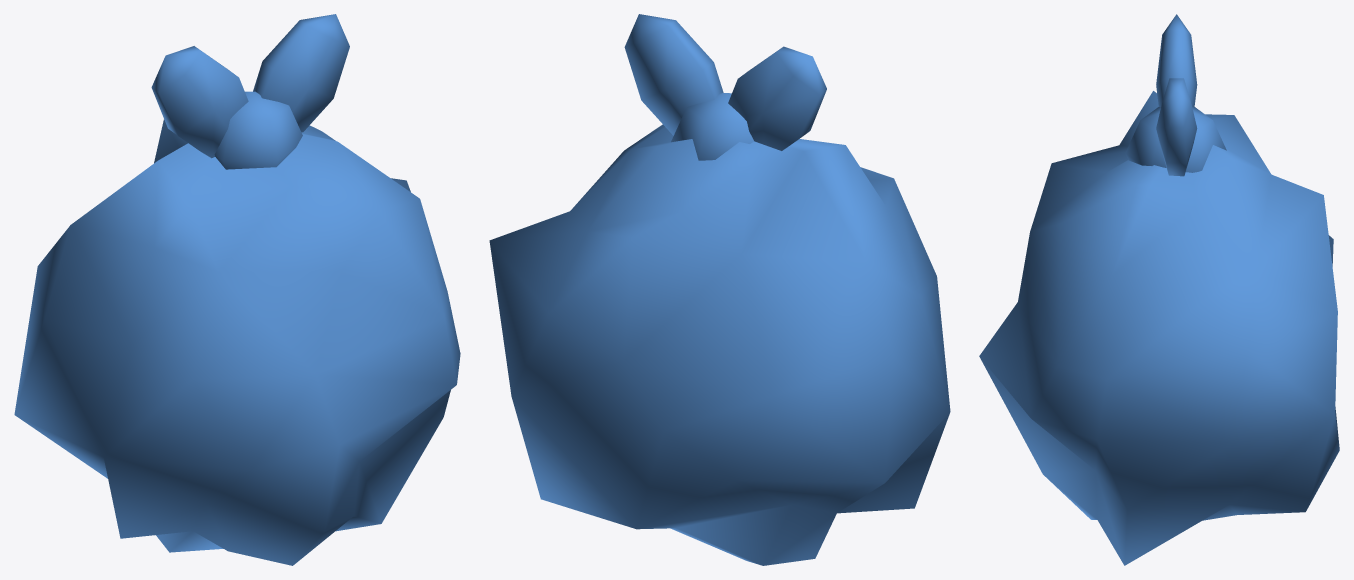
The model's file is bag_blue_tied.fbx.
3 views of the same model, side by side, from view 1: azimuth 30°, elevation 25°; view 2: azimuth 150°, elevation 25°; view 3: azimuth 270°, elevation 25° (orthographic). The views are drawn at different scales.
Parts seen in each view (by area): view 1: bag_blue_tied; view 2: bag_blue_tied; view 3: bag_blue_tied.
Boxes of the visible parts, x1,y1,x2,y2 form: bag_blue_tied: (14,14,460,565); bag_blue_tied: (489,14,950,565); bag_blue_tied: (979,14,1339,565).
Size of the model in its own units: 0.4127 by 0.5148 by 0.3507.
